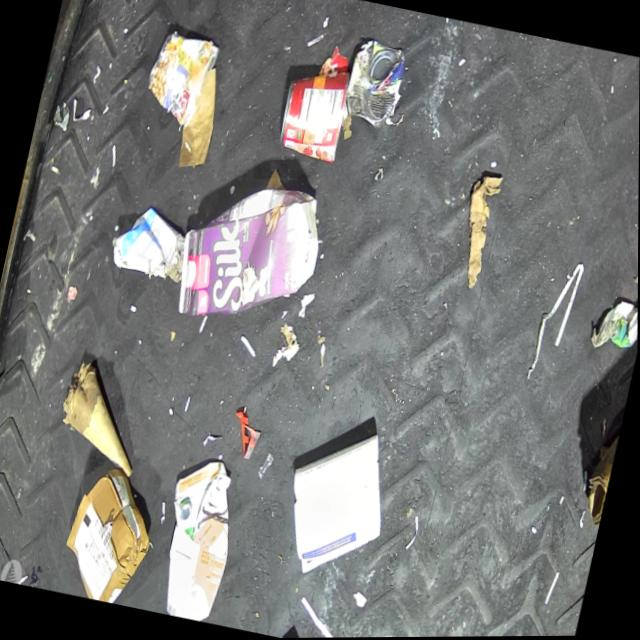can: (138, 28, 221, 130), (273, 60, 353, 165), (338, 35, 411, 133)
non_white_jug: (168, 165, 330, 338), (146, 454, 245, 624)
